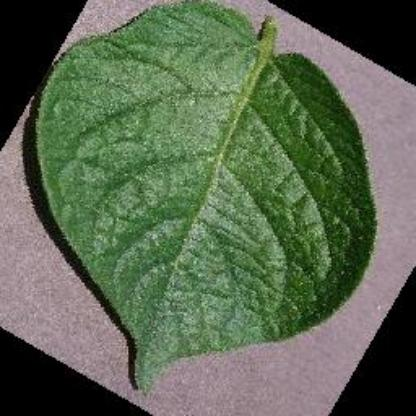Healthy-plant: (15, 0, 381, 374)
